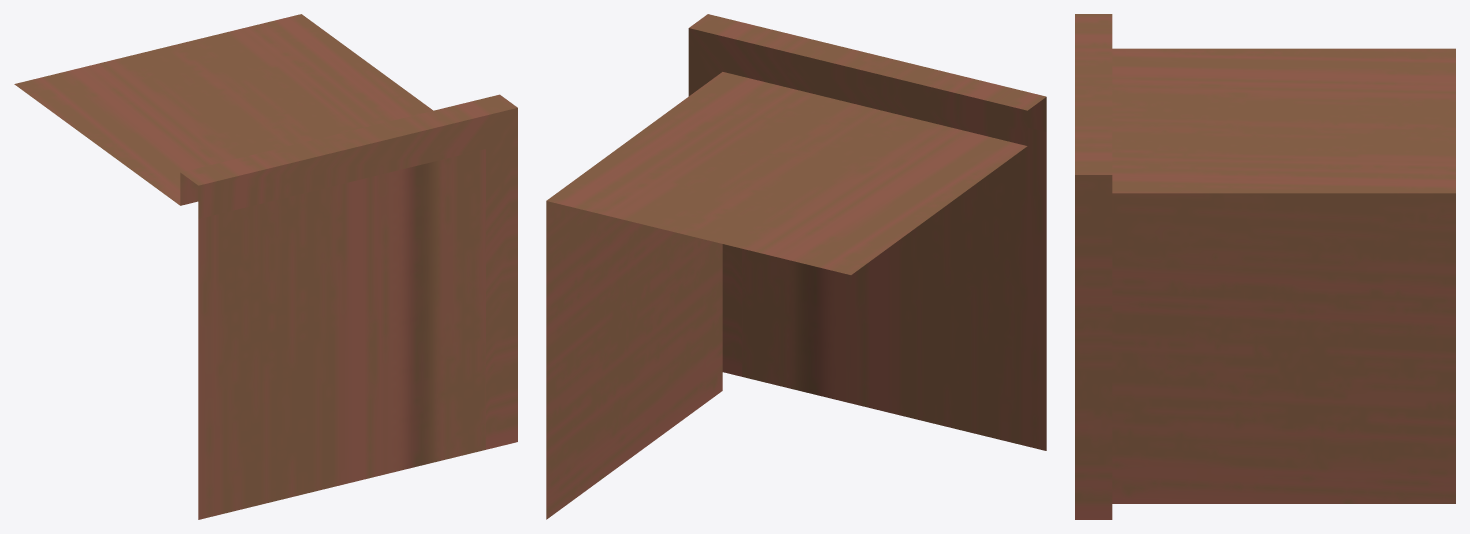
File: bar-corner.obj
3 views of the same model, side by side, from view 1: azimuth 30°, elevation 25°; view 2: azimuth 150°, elevation 25°; view 3: azimuth 270°, elevation 25° (orthographic). The views are drawn at different scales.
Parts seen in each view (by area): view 1: Plane; view 2: Plane; view 3: Plane.
Part boxes in pixels (x1,y1,x2,y2): Plane: (14, 14, 517, 519); Plane: (546, 14, 1046, 519); Plane: (1075, 14, 1455, 519).
Size of the model in its own units: 1 by 1 by 1.
Materials: 1 (1 with a texture image).
